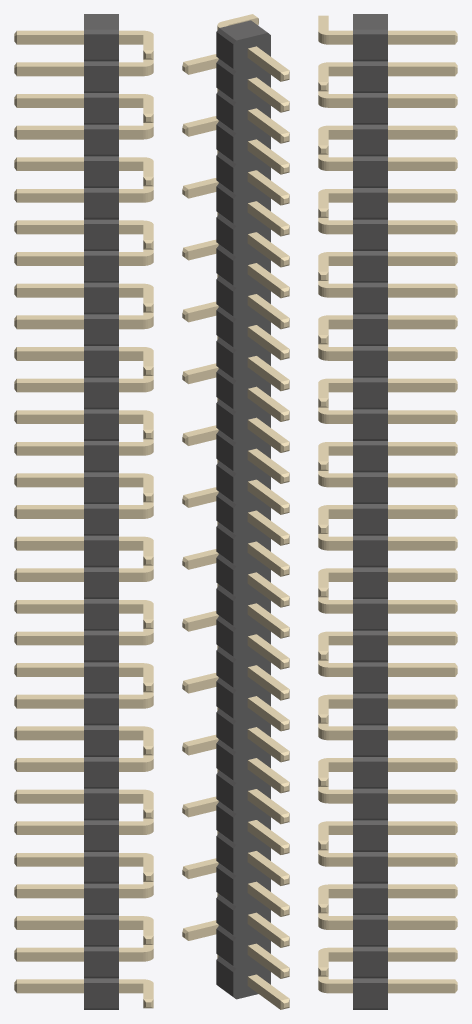
Rendered from PinHeader_1x31_P1.00mm_Vertical_SMD_Pin1Right.glb.
3 renders of one model, left to right at view 1: azimuth 90°, elevation 25°; view 2: azimuth 210°, elevation 25°; view 3: azimuth 270°, elevation 25°, orthographic. The views are drawn at different scales.
Visible parts, largest first — view 1: Shape_IndexedFaceSet.007, Shape_IndexedFaceSet.013, Shape_IndexedFaceSet.019, Shape_IndexedFaceSet.025, Shape_IndexedFaceSet.031, Shape_IndexedFaceSet.037, Shape_IndexedFaceSet.043, Shape_IndexedFaceSet.049, Shape_IndexedFaceSet.055, Shape_IndexedFaceSet.061, Shape_IndexedFaceSet.067, Shape_IndexedFaceSet.073 (+53 smaller); view 2: Shape_IndexedFaceSet.004, Shape_IndexedFaceSet.001, Shape_IndexedFaceSet.016, Shape_IndexedFaceSet.088, Shape_IndexedFaceSet.130, Shape_IndexedFaceSet.002, Shape_IndexedFaceSet.010, Shape_IndexedFaceSet.022, Shape_IndexedFaceSet.070, Shape_IndexedFaceSet.076, Shape_IndexedFaceSet.082, Shape_IndexedFaceSet.100 (+98 smaller); view 3: Shape_IndexedFaceSet.002, Shape_IndexedFaceSet.010, Shape_IndexedFaceSet.016, Shape_IndexedFaceSet.022, Shape_IndexedFaceSet.028, Shape_IndexedFaceSet.034, Shape_IndexedFaceSet.040, Shape_IndexedFaceSet.046, Shape_IndexedFaceSet.052, Shape_IndexedFaceSet.058, Shape_IndexedFaceSet.064, Shape_IndexedFaceSet.070 (+55 smaller).
Boxes of the visible parts, x1=… form: Shape_IndexedFaceSet.007: x1=84, y1=34, x2=118, y2=59; Shape_IndexedFaceSet.013: x1=84, y1=66, x2=118, y2=91; Shape_IndexedFaceSet.019: x1=84, y1=97, x2=118, y2=122; Shape_IndexedFaceSet.025: x1=84, y1=129, x2=118, y2=154; Shape_IndexedFaceSet.031: x1=84, y1=161, x2=118, y2=186; Shape_IndexedFaceSet.037: x1=84, y1=192, x2=118, y2=217; Shape_IndexedFaceSet.043: x1=84, y1=224, x2=118, y2=249; Shape_IndexedFaceSet.049: x1=84, y1=255, x2=118, y2=280; Shape_IndexedFaceSet.055: x1=84, y1=287, x2=118, y2=312; Shape_IndexedFaceSet.061: x1=84, y1=319, x2=118, y2=344; Shape_IndexedFaceSet.067: x1=84, y1=350, x2=118, y2=375; Shape_IndexedFaceSet.073: x1=84, y1=382, x2=118, y2=407; Shape_IndexedFaceSet.004: x1=233, y1=33, x2=270, y2=999; Shape_IndexedFaceSet.001: x1=219, y1=20, x2=267, y2=40; Shape_IndexedFaceSet.016: x1=216, y1=94, x2=233, y2=130; Shape_IndexedFaceSet.088: x1=216, y1=465, x2=233, y2=501; Shape_IndexedFaceSet.130: x1=216, y1=681, x2=233, y2=718; Shape_IndexedFaceSet.002: x1=216, y1=32, x2=233, y2=68; Shape_IndexedFaceSet.010: x1=216, y1=63, x2=233, y2=99; Shape_IndexedFaceSet.022: x1=216, y1=125, x2=233, y2=161; Shape_IndexedFaceSet.070: x1=216, y1=372, x2=233, y2=408; Shape_IndexedFaceSet.076: x1=216, y1=403, x2=233, y2=439; Shape_IndexedFaceSet.082: x1=216, y1=434, x2=233, y2=470; Shape_IndexedFaceSet.100: x1=216, y1=527, x2=233, y2=563; Shape_IndexedFaceSet.002: x1=353, y1=34, x2=387, y2=59; Shape_IndexedFaceSet.010: x1=353, y1=66, x2=387, y2=91; Shape_IndexedFaceSet.016: x1=353, y1=97, x2=387, y2=122; Shape_IndexedFaceSet.022: x1=353, y1=129, x2=387, y2=154; Shape_IndexedFaceSet.028: x1=353, y1=161, x2=387, y2=186; Shape_IndexedFaceSet.034: x1=353, y1=192, x2=387, y2=217; Shape_IndexedFaceSet.040: x1=353, y1=224, x2=387, y2=249; Shape_IndexedFaceSet.046: x1=353, y1=255, x2=387, y2=280; Shape_IndexedFaceSet.052: x1=353, y1=287, x2=387, y2=312; Shape_IndexedFaceSet.058: x1=353, y1=319, x2=387, y2=344; Shape_IndexedFaceSet.064: x1=353, y1=350, x2=387, y2=375; Shape_IndexedFaceSet.070: x1=353, y1=382, x2=387, y2=407.
Bounding box in the file's own units: 0.984 × 12.2 × 1.58.
